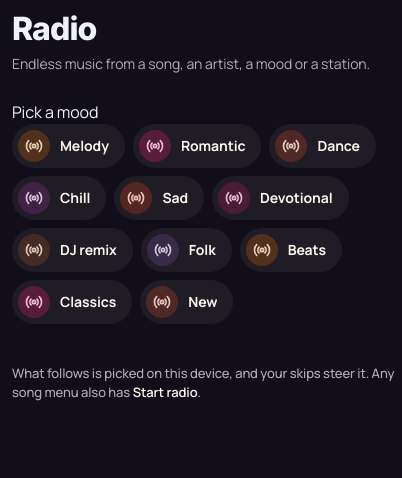
Test case: Radio page › a mood starts radio from its songs with that tune, in the listener language
Click the button with aria-label "Start Melody radio": click(68, 146) [12,124,125,168]
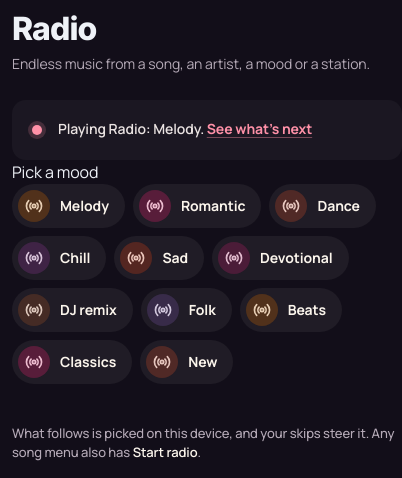
Check: the text "Playing Radio: Melody. See what’s next" is shown, box [58,119,312,138]
